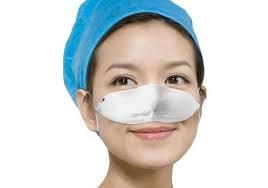Wore Mask Incorrectly: (63, 0, 215, 166)
